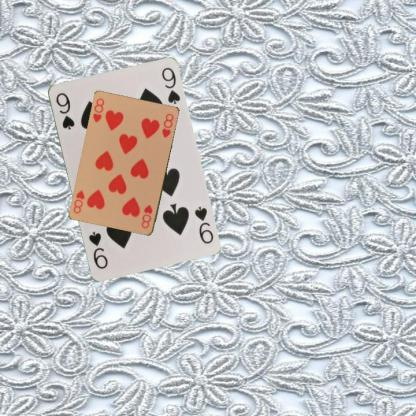8h: (138, 202, 154, 230), (90, 96, 106, 124)
9s: (53, 90, 76, 131), (192, 203, 214, 245)
